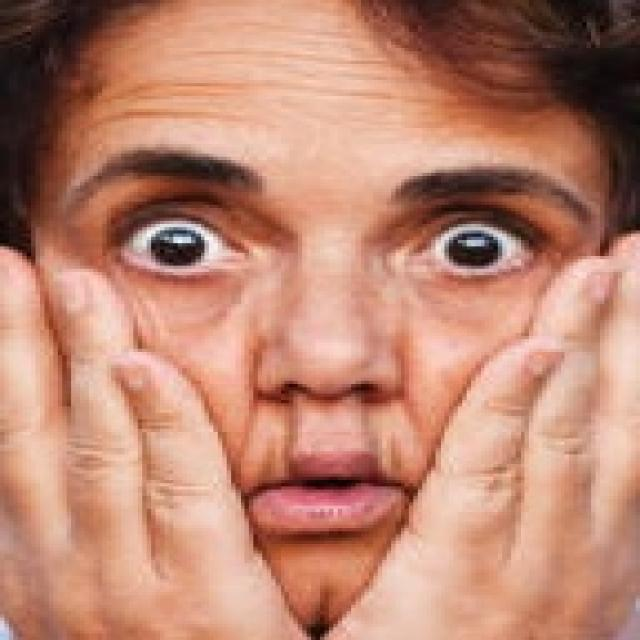Anxiety: (35, 0, 615, 633)
